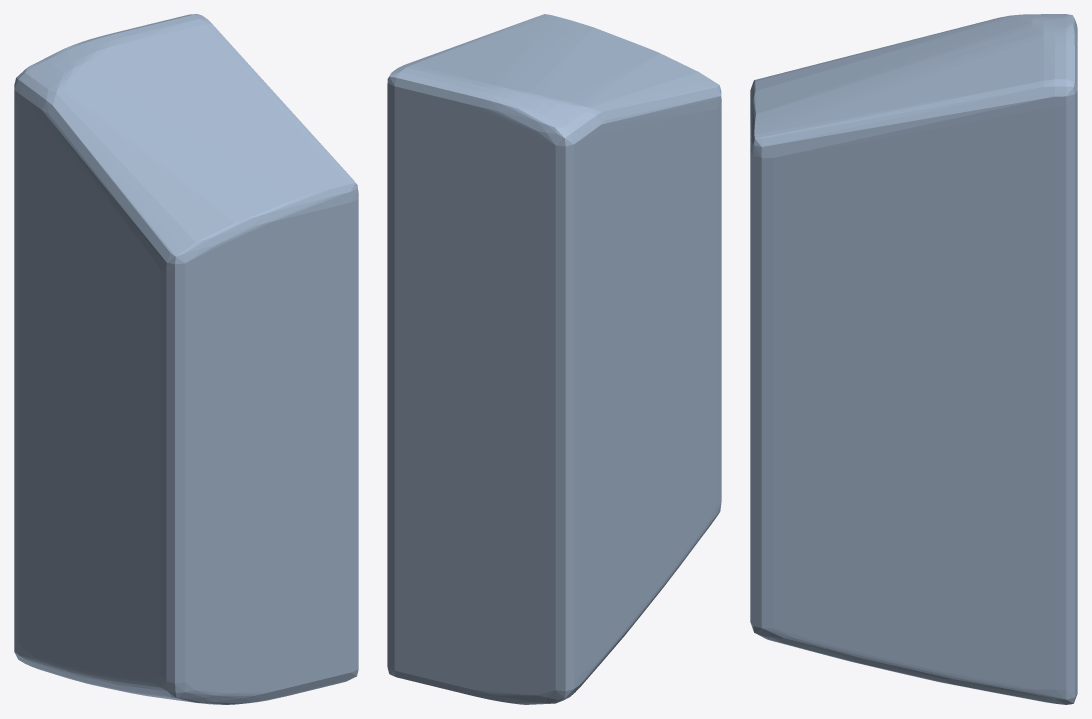
File: right_th_distal_pst_part_6.obj
3 views of the same model, side by side, from view 1: azimuth 30°, elevation 25°; view 2: azimuth 150°, elevation 25°; view 3: azimuth 270°, elevation 25° (orthographic). The views are drawn at different scales.
Bounding box in the file's own units: 5.6 × 17.28 × 8.23.
